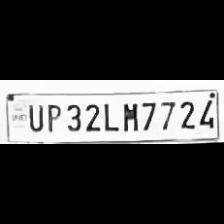2: (176, 96, 194, 130), (82, 100, 100, 132)
3: (63, 100, 81, 132)
4: (196, 94, 216, 130)
7: (155, 99, 175, 131), (138, 99, 156, 131)
L: (102, 100, 118, 132)
M: (117, 100, 139, 132)
P: (44, 100, 60, 132)
U: (24, 100, 44, 132)
